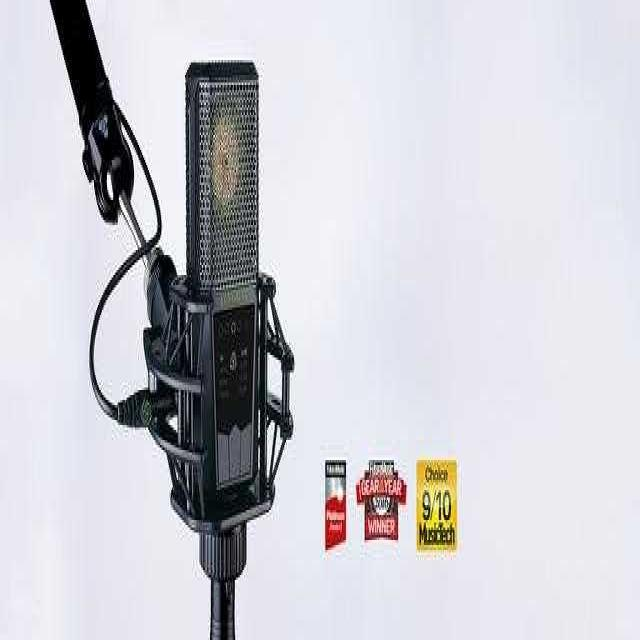microphone: (175, 6, 287, 630)
